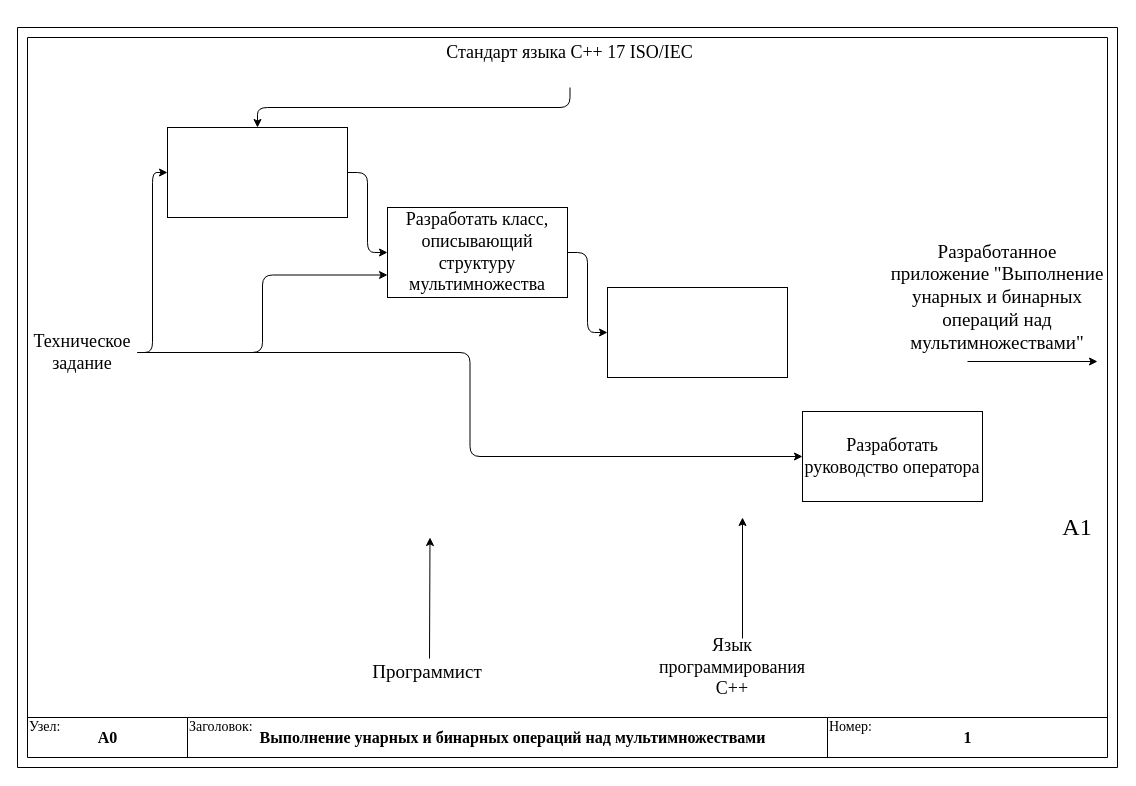
Image size: 1136x786. Some labels were removed from this diagram. The shapes that lost their labels are listed below. From the top down, each one's centre as x and y in pixels, then its label:
(x=257, y=172): Разработать класс, описывающий структуру универсума мультимножества
(x=697, y=332): Разработать функции для выполнения операций над мультимножествами
